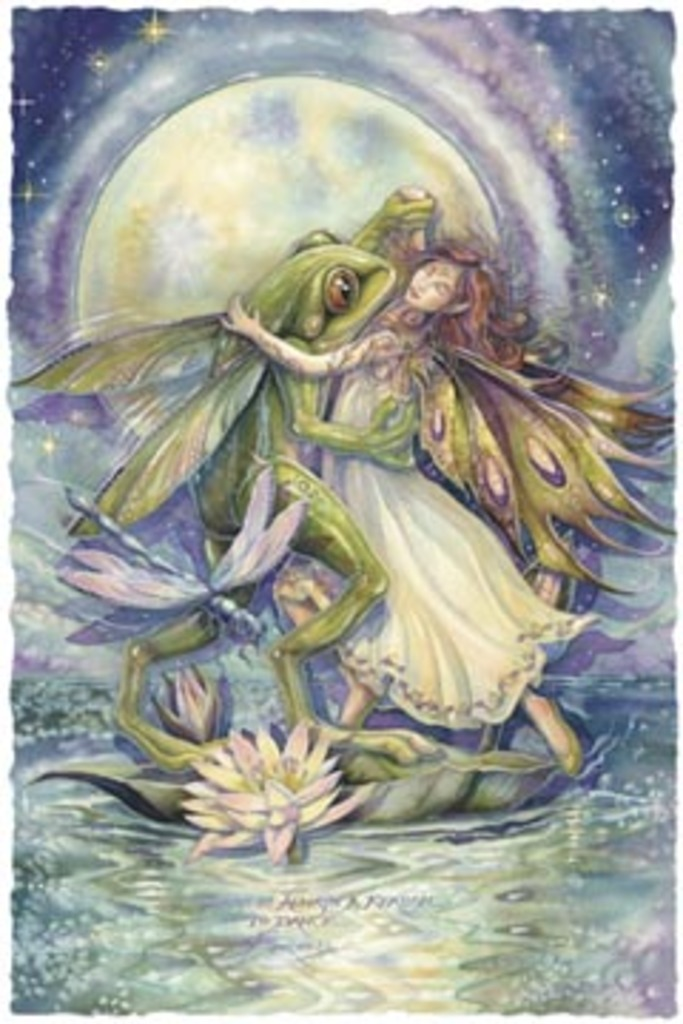Frog: (11, 179, 672, 779)
